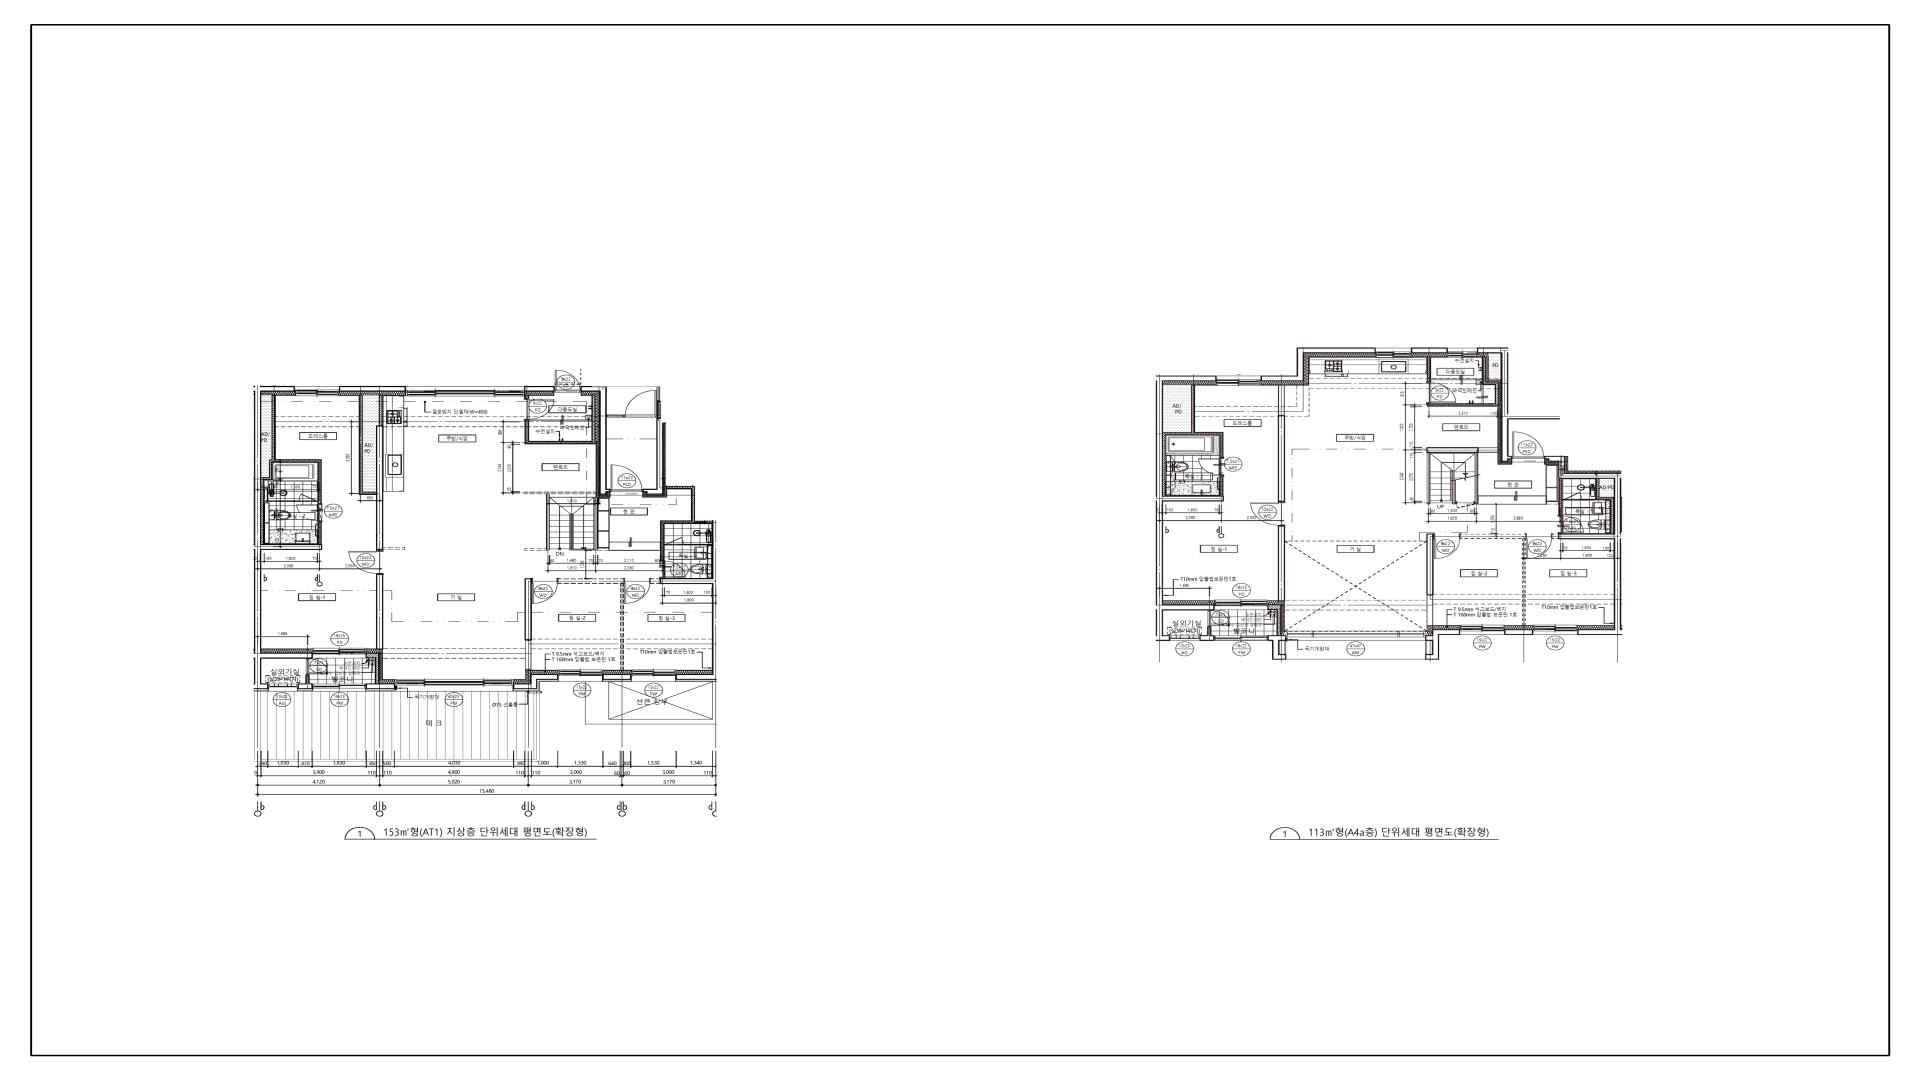door: (1513, 431, 1544, 459), (611, 464, 642, 492), (625, 390, 657, 418), (1250, 502, 1286, 526), (348, 551, 384, 574), (1433, 534, 1460, 559), (1526, 534, 1552, 559), (531, 579, 558, 604), (624, 579, 650, 604), (1427, 381, 1456, 404), (555, 371, 580, 393), (1197, 458, 1224, 476), (1559, 516, 1584, 534), (661, 560, 686, 579), (297, 504, 322, 522), (1207, 611, 1230, 628), (306, 658, 328, 675), (1563, 492, 1582, 501), (665, 537, 683, 546), (299, 493, 318, 502), (1456, 501, 1474, 509)
wall: (255, 386, 322, 690), (642, 418, 716, 680), (1156, 376, 1224, 641), (1544, 456, 1622, 636), (261, 394, 322, 545), (1163, 385, 1224, 496), (558, 579, 624, 670), (1461, 534, 1526, 626), (525, 492, 596, 550), (1427, 447, 1498, 505), (1477, 348, 1513, 462), (359, 396, 384, 551), (661, 487, 713, 560), (1261, 348, 1375, 381), (1427, 356, 1499, 406), (525, 396, 596, 444), (580, 386, 611, 495), (1582, 479, 1614, 533), (1425, 629, 1460, 659), (1278, 385, 1286, 502), (593, 497, 609, 550), (513, 674, 559, 690), (1427, 534, 1433, 626), (376, 574, 384, 650), (525, 579, 531, 670), (1278, 526, 1286, 601), (513, 680, 559, 691), (1269, 636, 1286, 659), (1269, 604, 1280, 636), (367, 653, 378, 683), (339, 386, 406, 392), (298, 675, 313, 690), (365, 683, 396, 690), (1411, 348, 1448, 353), (603, 674, 632, 680), (1200, 626, 1213, 641), (1506, 629, 1532, 636), (525, 386, 555, 392), (1559, 479, 1563, 516), (1427, 356, 1431, 381), (1452, 480, 1456, 504), (318, 522, 322, 545), (1220, 476, 1224, 496), (607, 414, 625, 418), (675, 680, 716, 682), (650, 579, 659, 584), (365, 690, 396, 691), (683, 545, 712, 546), (603, 680, 632, 682), (1552, 534, 1559, 539), (255, 690, 269, 691), (298, 690, 313, 691), (525, 394, 529, 398)
window: (396, 679, 513, 691), (1286, 632, 1425, 641), (406, 386, 525, 397), (1215, 600, 1269, 611), (632, 670, 675, 682), (559, 670, 603, 682), (313, 649, 367, 658), (1460, 625, 1506, 636), (1532, 625, 1578, 636), (1217, 376, 1261, 386), (313, 683, 365, 691), (294, 386, 339, 396), (1375, 348, 1411, 357), (1213, 636, 1269, 641), (1448, 348, 1477, 357), (269, 683, 298, 691), (1170, 636, 1200, 641)
